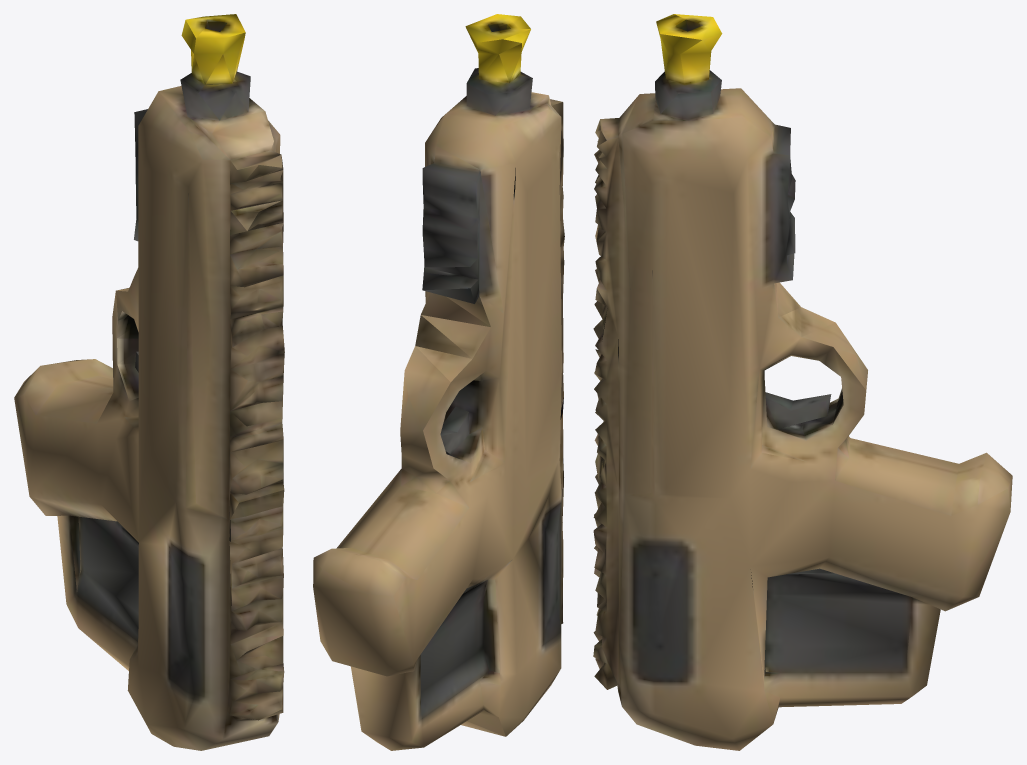
Rendered from bullpup.glb.
3 views of the same model, side by side, from view 1: azimuth 30°, elevation 25°; view 2: azimuth 150°, elevation 25°; view 3: azimuth 270°, elevation 25° (orthographic). The views are drawn at different scales.
Parts seen in each view (by area): view 1: bullpup; view 2: bullpup; view 3: bullpup.
Boxes of the visible parts, left/top/right/bottom form: bullpup: left=14, top=14, right=284, bottom=750; bullpup: left=313, top=14, right=564, bottom=750; bullpup: left=593, top=14, right=1012, bottom=750.
Bounding box in the file's own units: 0.0952 × 0.6283 × 0.3369.
1 material, 1 textured.
